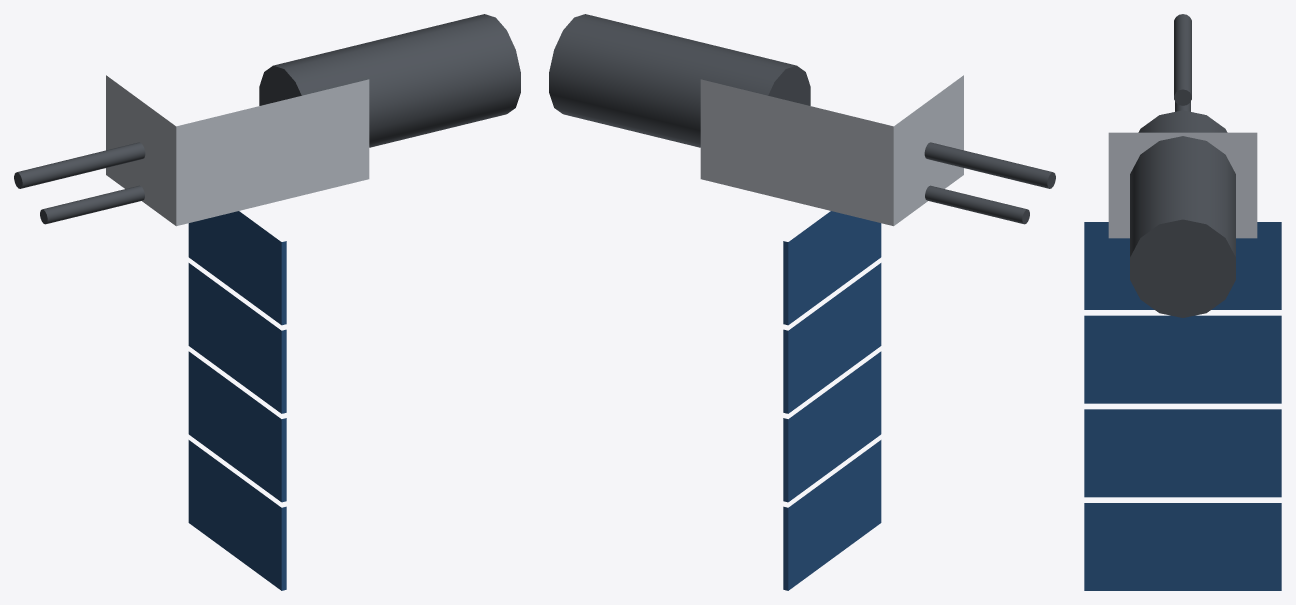
3 views of the same model, side by side, from view 1: azimuth 30°, elevation 25°; view 2: azimuth 150°, elevation 25°; view 3: azimuth 270°, elevation 25° (orthographic). The views are drawn at different scales.
Size of the model in its own units: 9.41 by 9.03 by 3.18.
